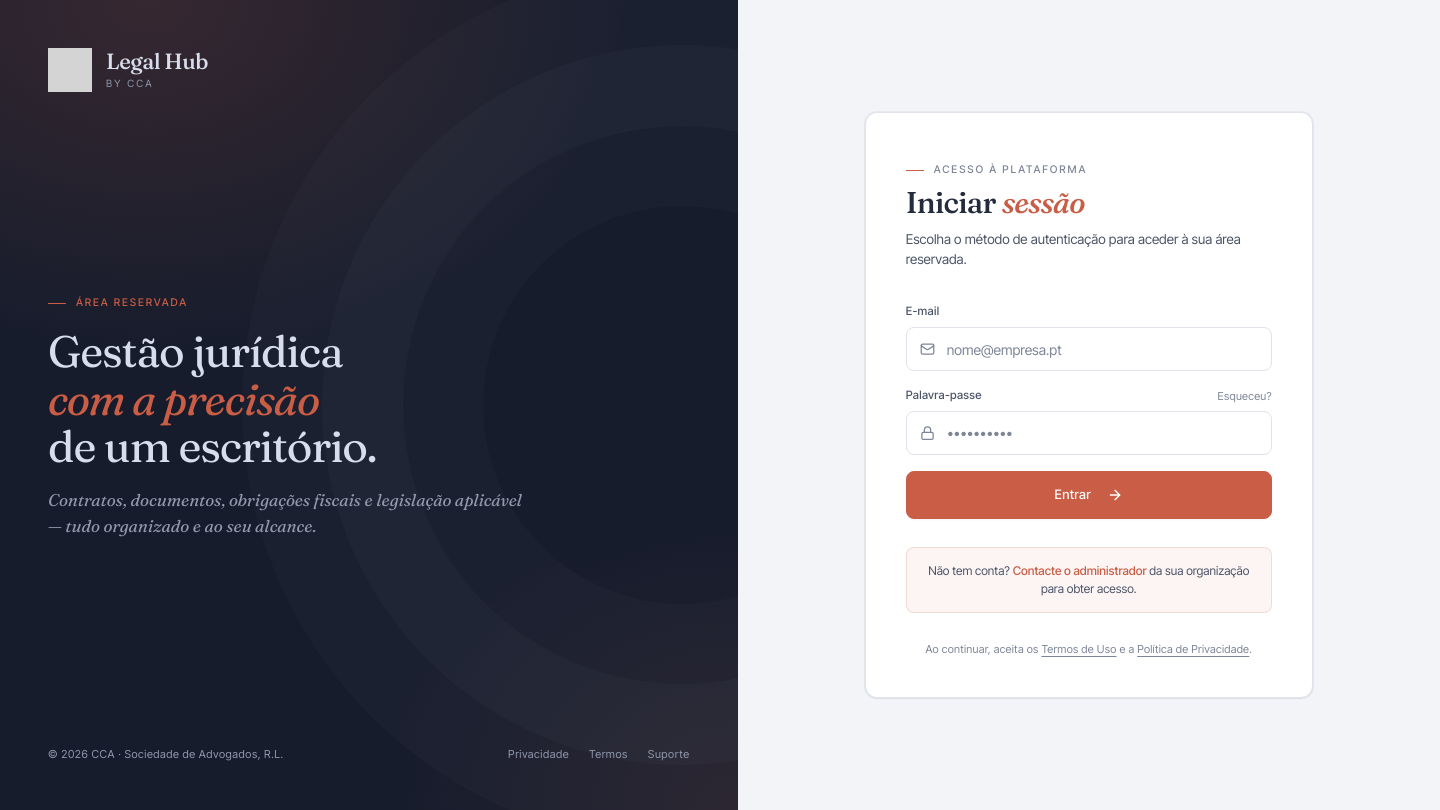
Test case: Login — email validation › clears email error when a valid email is typed
The width and height of the screenshot is (1440, 810).
Trigger error
In the field labelled "E-mail": x=1089, y=349 [906,327,1272,371], type "bad"
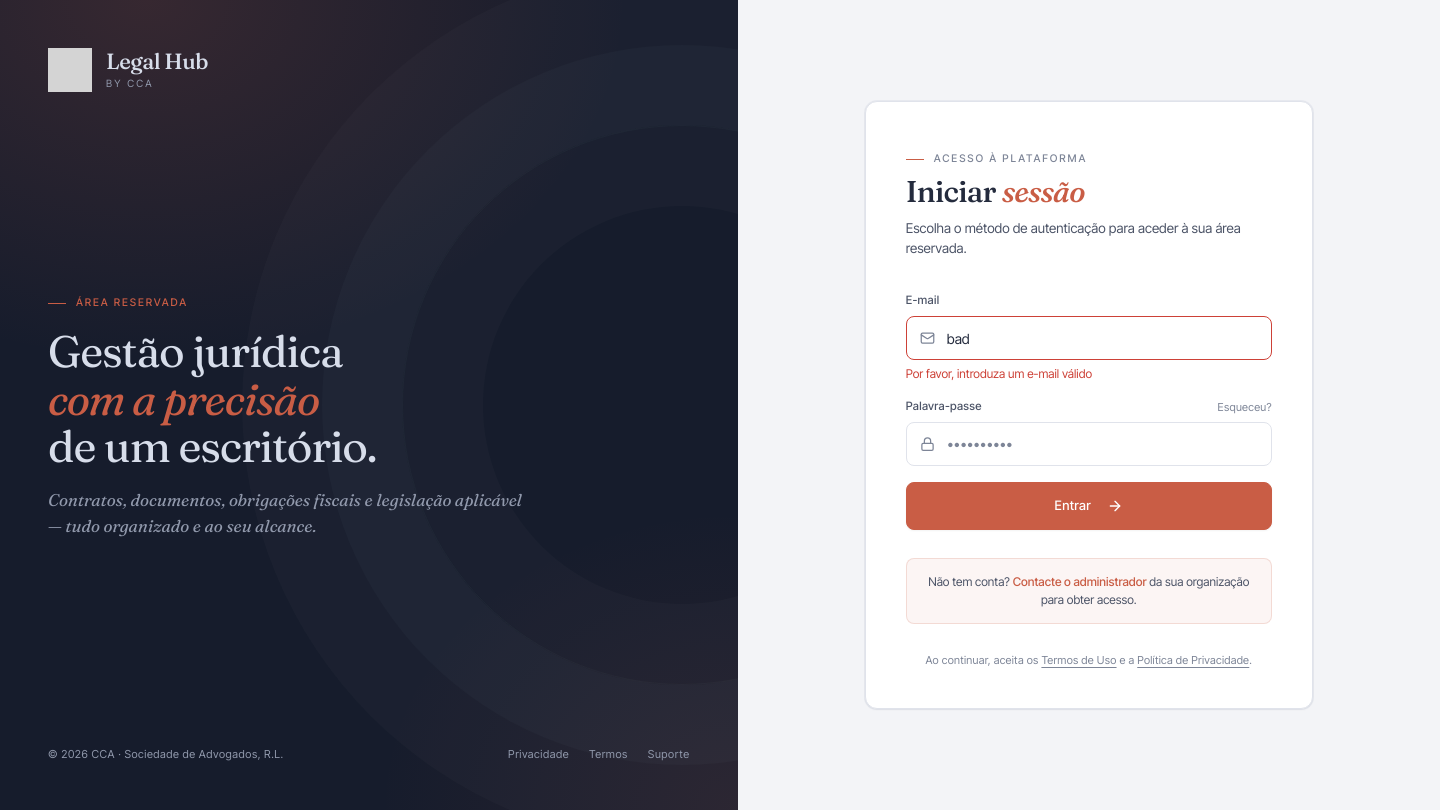
expect the text "Por favor, introduza um e-mail válido" is shown: met, box [906,366,1092,381]
Replace the text in the field labelled "E-mail" with "user@cca.pt": x=1089, y=338 [906,316,1272,360]
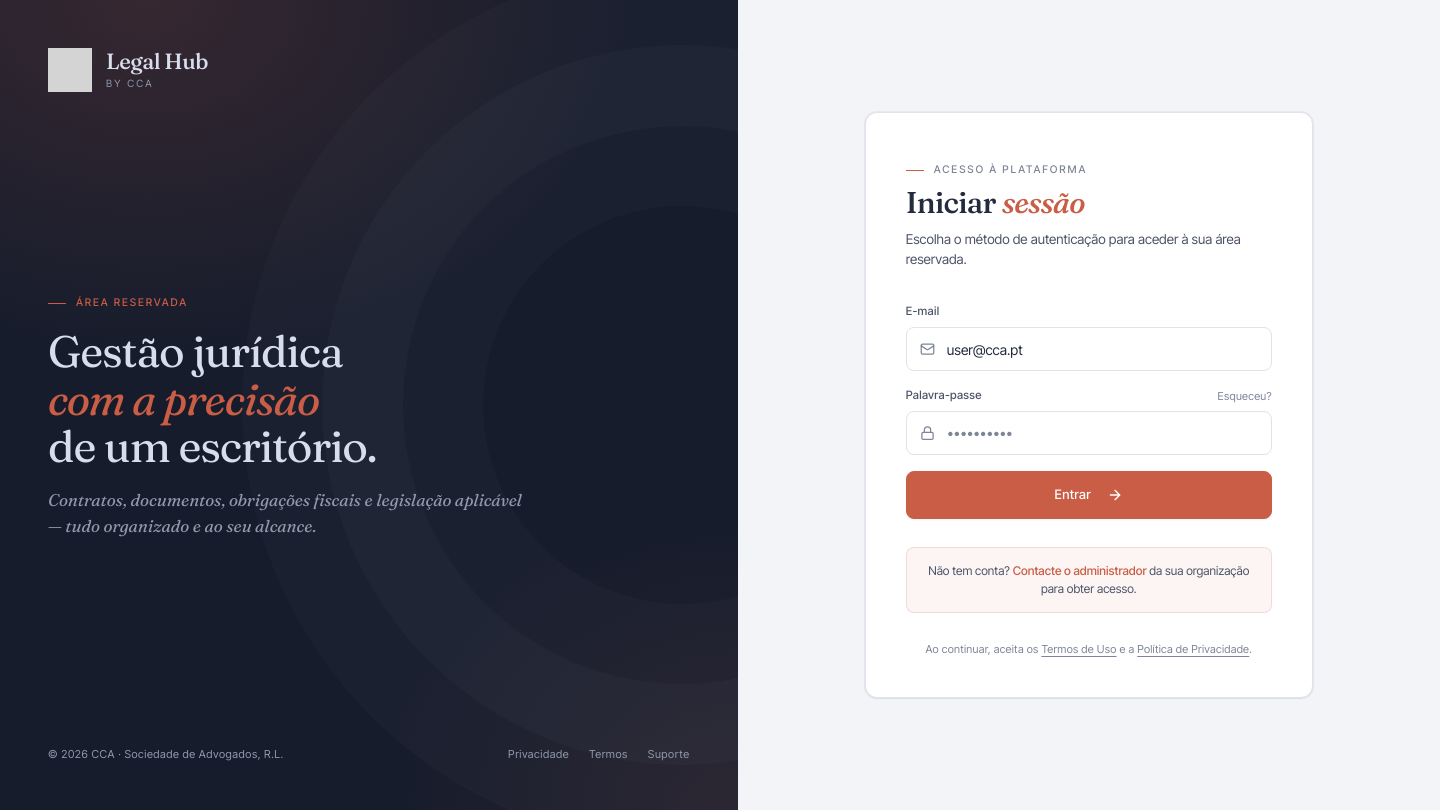
expect the text "e-mail válido" is gone: met
